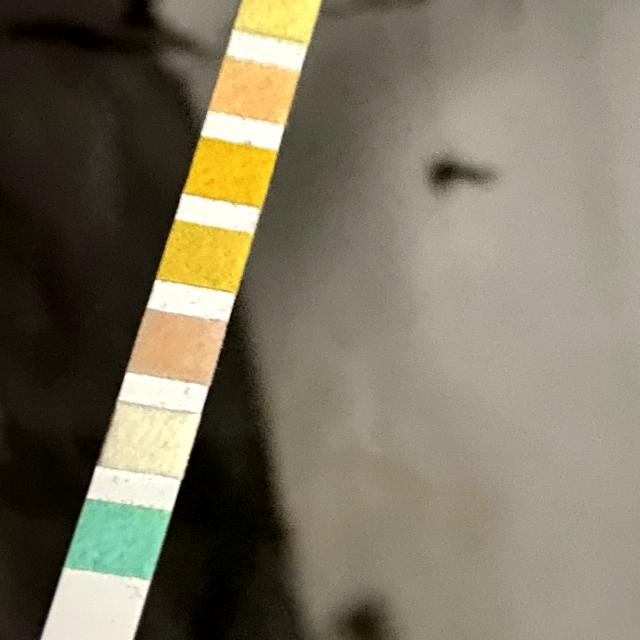Bilirubin: (117, 411, 188, 470)
Blood: (199, 146, 269, 200)
Glucose: (84, 511, 156, 568)
Ketone: (144, 318, 216, 373)
Protein: (247, 0, 314, 35)
SpGravity: (172, 231, 242, 281)
pH: (224, 68, 289, 115)
